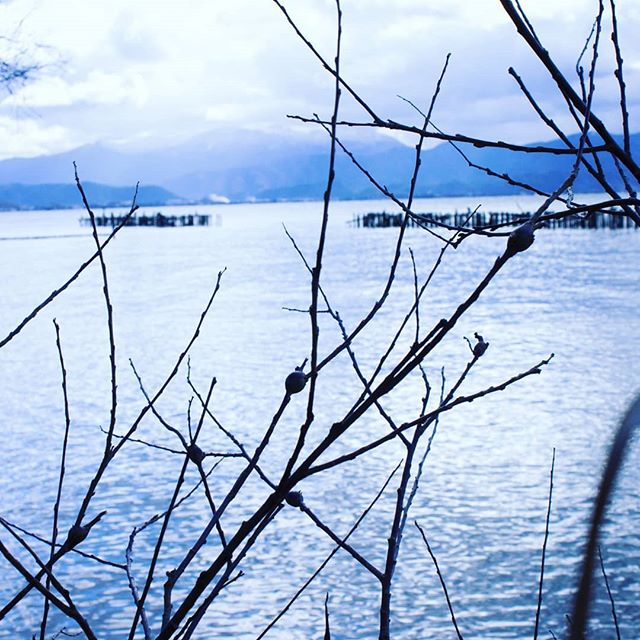mountain: (30, 111, 593, 161)
river: (13, 206, 640, 640)
sky: (1, 1, 640, 117)
tree: (1, 236, 507, 637)
